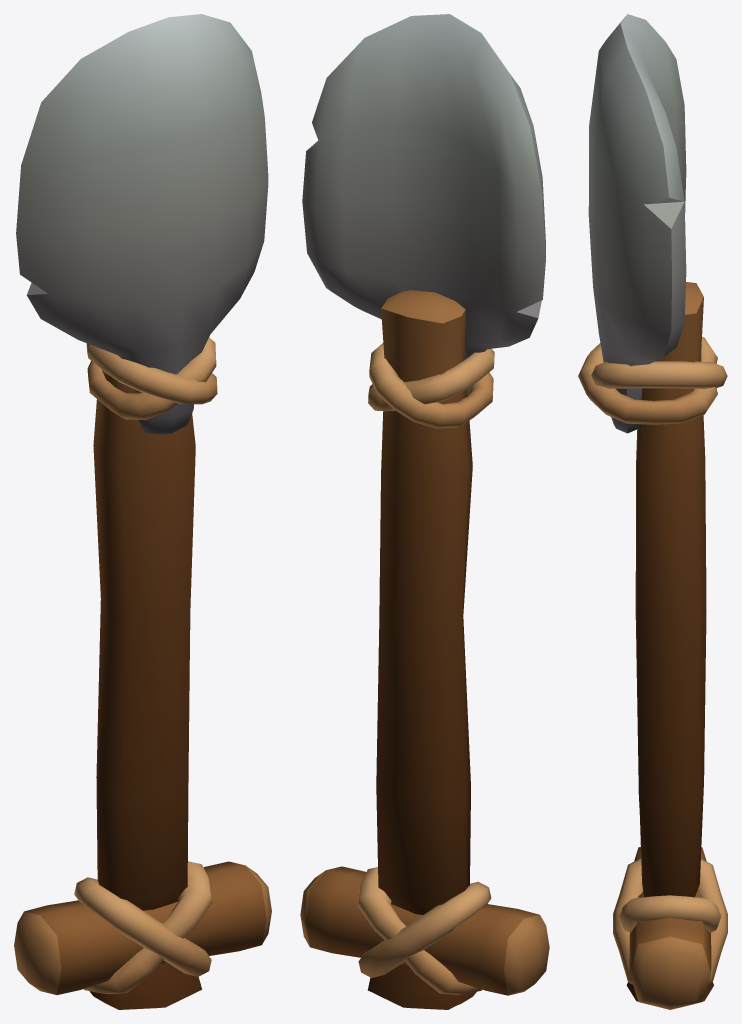
The model's file is Shovel_01.obj.
The picture shows the model from 3 angles, left to right: view 1: azimuth 30°, elevation 25°; view 2: azimuth 150°, elevation 25°; view 3: azimuth 270°, elevation 25°; orthographic projection. The views are drawn at different scales.
Parts seen in each view (by area): view 1: Shovel_01; view 2: Shovel_01; view 3: Shovel_01.
Boxes of the visible parts, x1,y1,x2,y2 form: Shovel_01: [14, 14, 271, 1009]; Shovel_01: [300, 14, 549, 1009]; Shovel_01: [578, 14, 727, 1009].
Bounding box in the file's own units: 0.3001 × 1.14 × 0.1594.
